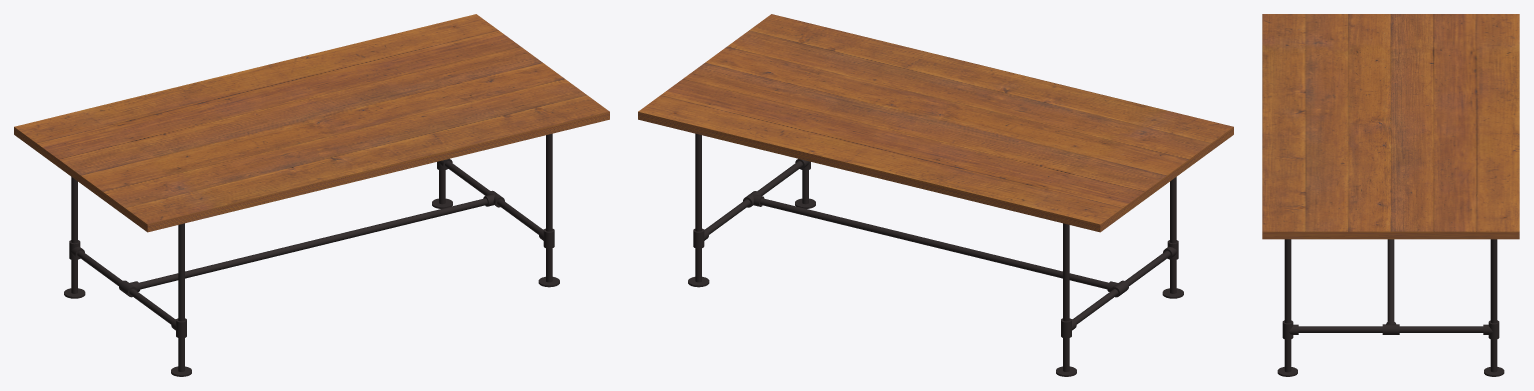
File: asset.gltf
The picture shows the model from 3 angles, left to right: view 1: azimuth 30°, elevation 25°; view 2: azimuth 150°, elevation 25°; view 3: azimuth 270°, elevation 25°; orthographic projection. The views are drawn at different scales.
Visible parts, largest first — view 1: Box001, Cylinder023, Cylinder001, Cylinder010, Cylinder022, Cylinder021, Cylinder020; view 2: Box001, Cylinder023, Cylinder011, Cylinder020, Cylinder022, Cylinder021, Cylinder010; view 3: Box001, Cylinder021, Cylinder001, Cylinder011, Cylinder023.
Part boxes in pixels (x1,y1,x2,y2): Box001: [14, 14, 609, 232]; Cylinder023: [139, 198, 487, 289]; Cylinder001: [546, 133, 552, 282]; Cylinder010: [178, 223, 184, 371]; Cylinder022: [77, 250, 174, 324]; Cylinder021: [445, 161, 542, 234]; Cylinder020: [71, 177, 77, 293]; Box001: [638, 14, 1233, 232]; Cylinder023: [760, 198, 1108, 289]; Cylinder011: [695, 133, 701, 282]; Cylinder020: [1063, 223, 1069, 371]; Cylinder022: [1073, 250, 1170, 324]; Cylinder021: [705, 161, 802, 234]; Cylinder010: [1170, 177, 1176, 293]; Box001: [1262, 14, 1519, 239]; Cylinder021: [1298, 326, 1483, 332]; Cylinder001: [1284, 239, 1291, 372]; Cylinder011: [1490, 239, 1497, 372]; Cylinder023: [1387, 239, 1394, 321].
Bounding box in the file's own units: 2.59 × 0.9059 × 1.29.
2 materials, 1 textured.
